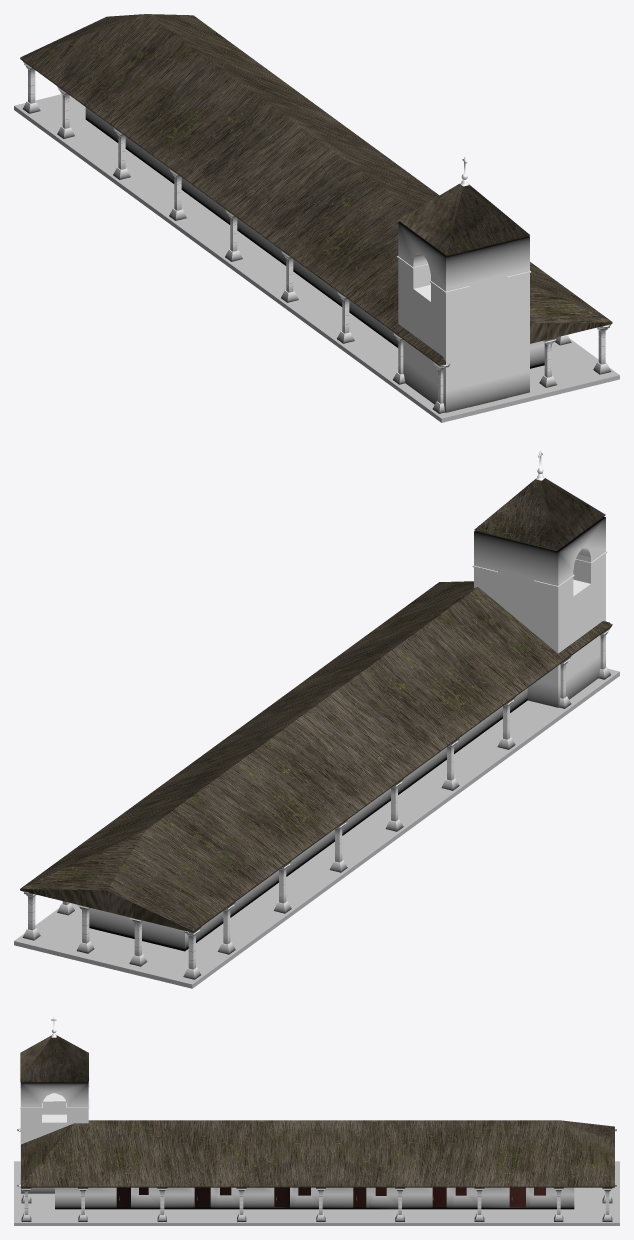
The model's file is Cabildo.fbx.
3 views of the same model, one above another, from view 1: azimuth 30°, elevation 25°; view 2: azimuth 150°, elevation 25°; view 3: azimuth 270°, elevation 25° (orthographic). The views are drawn at different scales.
Visible parts, largest first — view 1: Cube.003, Cube.005, ParedeSino.001, Cube.028, Cube.011, Cube.004, Cube, Cube.008; view 2: Cube.003, Cube.005, ParedeSino.001, Cube.004, Cube.011, Cube, Cube.028, Cube.006, Cube.009; view 3: Cube.003, Cube.005, Cube.004, ParedeSino.001, Cube.011, Cube.
Boxes of the visible parts, x1,y1,x2,y2 form: Cube.003: (20,14,612,365); Cube.005: (14,94,619,422); ParedeSino.001: (396,222,531,412); Cube.028: (469,242,507,407); Cube.011: (398,183,529,256); Cube.004: (85,107,544,368); Cube: (57,86,571,384); Cube.008: (432,324,611,413); Cube.003: (20,581,612,932); Cube.005: (14,668,619,988); ParedeSino.001: (472,517,607,707); Cube.004: (89,688,527,951); Cube.011: (474,478,605,550); Cube: (57,656,571,954); Cube.028: (497,537,535,701); Cube.006: (22,891,200,979); Cube.009: (76,904,147,966); Cube.003: (21,1120,614,1187); Cube.005: (14,1161,619,1225); Cube.004: (55,1187,574,1209); ParedeSino.001: (20,1078,89,1193); Cube.011: (20,1035,88,1082); Cube: (78,1187,563,1221).
Size of the model in its own units: 900 by 1121 by 3736.
